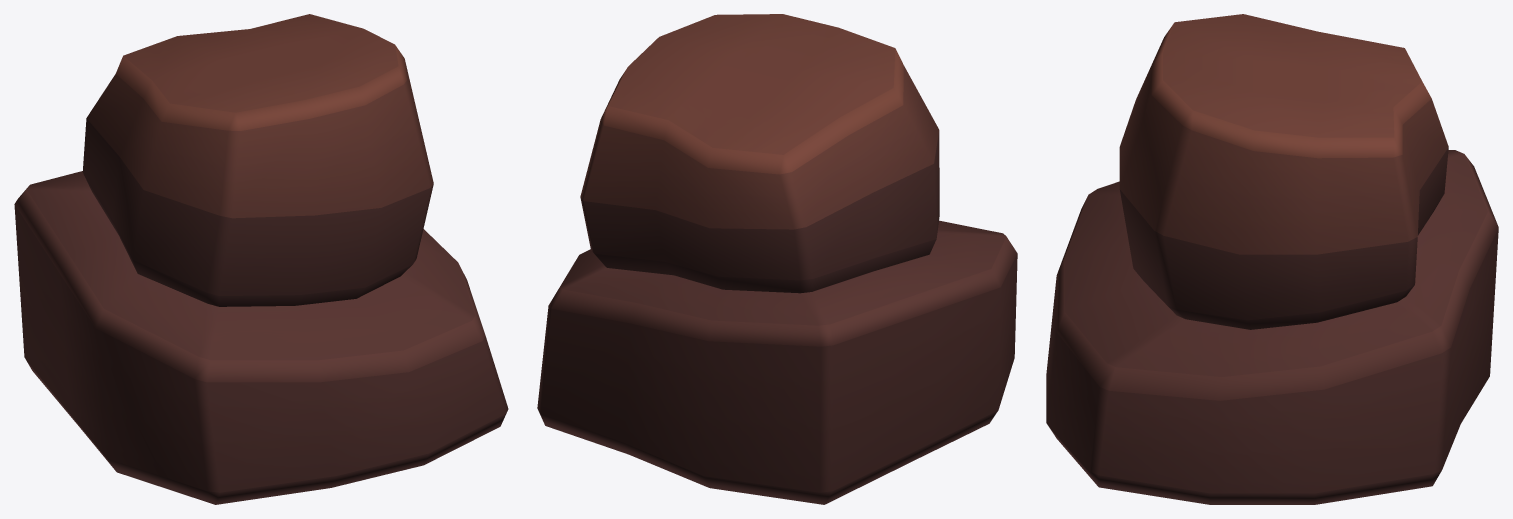
Rendered from rock_formation_11.fbx.
3 views of the same model, side by side, from view 1: azimuth 30°, elevation 25°; view 2: azimuth 150°, elevation 25°; view 3: azimuth 270°, elevation 25° (orthographic). The views are drawn at different scales.
Visible parts, largest first — view 1: rock_formation_11; view 2: rock_formation_11; view 3: rock_formation_11.
Boxes of the visible parts, x1,y1,x2,y2 form: rock_formation_11: (14,14,508,504); rock_formation_11: (537,14,1017,504); rock_formation_11: (1046,14,1498,504).
Bounding box in the file's own units: 344 × 286 × 333.
